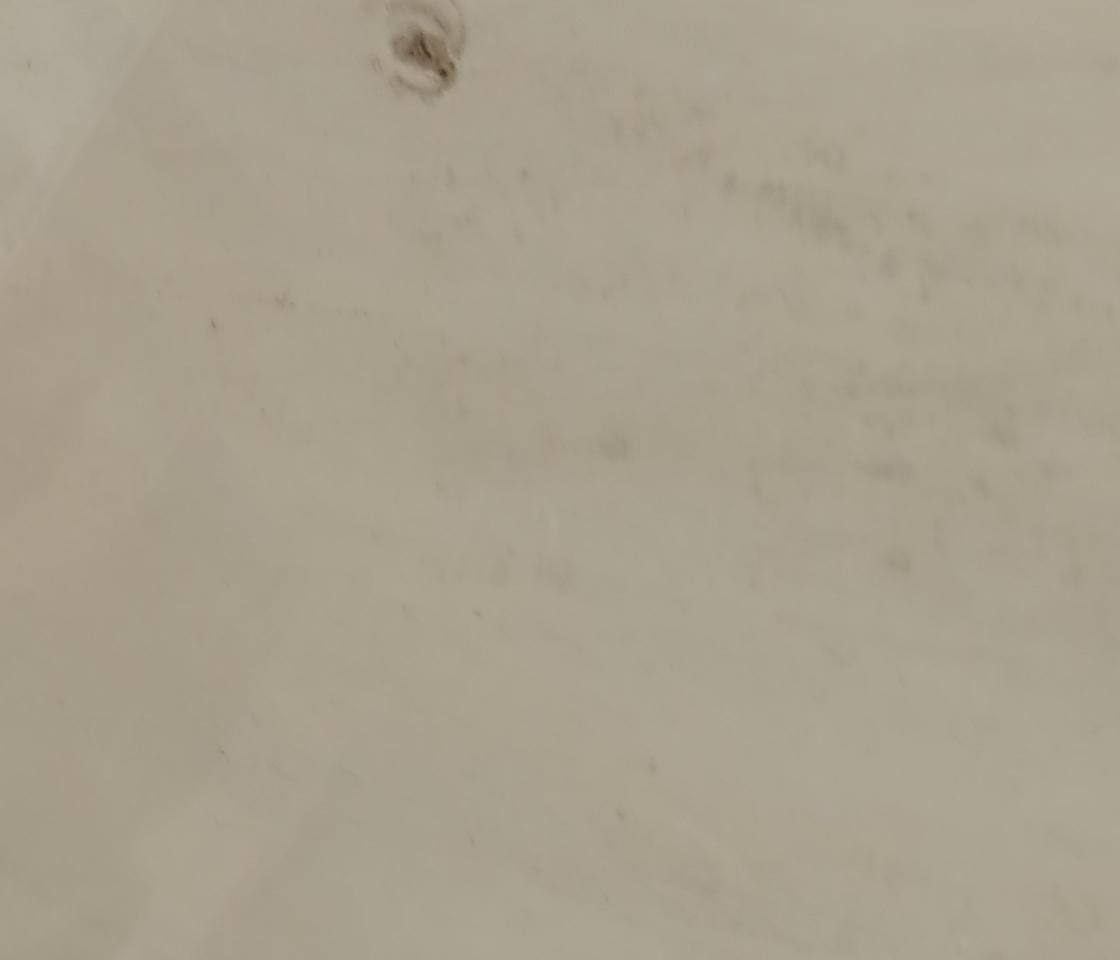scratch: (387, 26, 461, 85)
